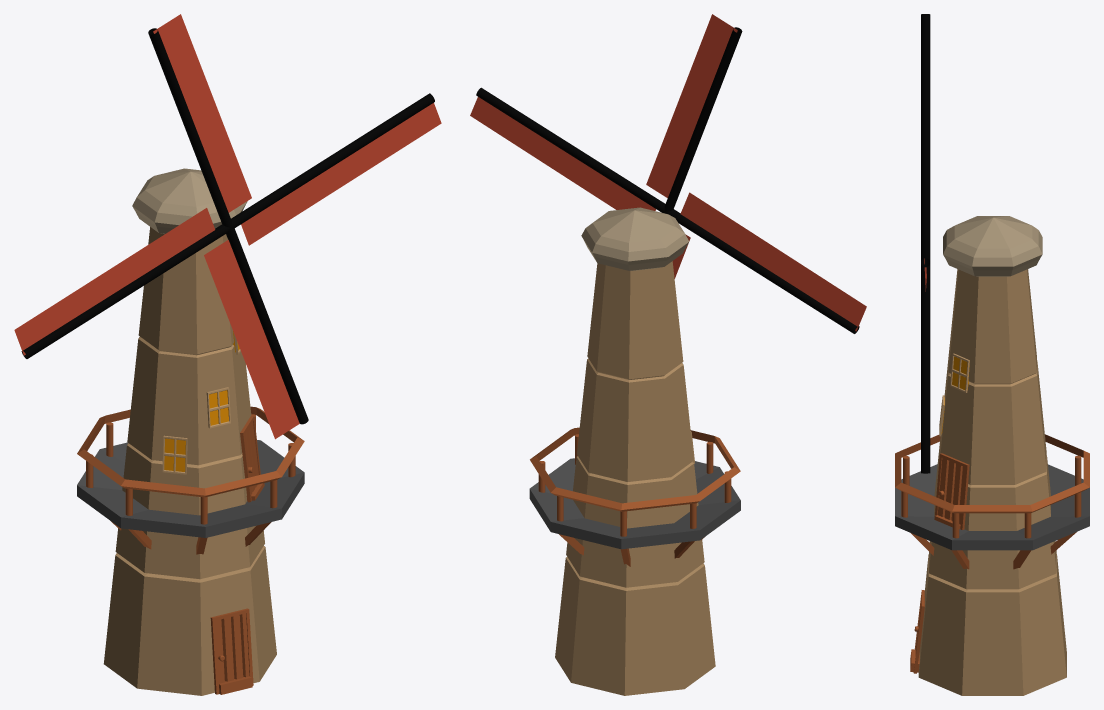
The model's file is huusha2.fbx.
The picture shows the model from 3 angles, left to right: view 1: azimuth 30°, elevation 25°; view 2: azimuth 150°, elevation 25°; view 3: azimuth 270°, elevation 25°; orthographic projection. The views are drawn at different scales.
Parts seen in each view (by area): view 1: 平面, 羽, 羽支柱, 平面.003, 平面.002, 平面.001, ドア.001, 円柱.003, ドア枠.001, 立方体; view 2: 平面, 羽, 平面.003, 羽支柱, 平面.002, 平面.001, 円柱.003; view 3: 平面, 平面.003, 平面.002, 羽支柱, 平面.001, 円柱.003, ドア.003, 立方体, ドア枠.003, ドア枠.001, 窓.004, 窓枠.005.
Part boxes in pixels (x1,y1,x2,y2): 平面: (103, 227, 276, 695); 羽: (14, 14, 441, 439); 羽支柱: (21, 28, 434, 424); 平面.003: (77, 440, 304, 537); 平面.002: (132, 168, 247, 233); 平面.001: (77, 406, 304, 497); ドア.001: (215, 613, 249, 683); 円柱.003: (86, 414, 295, 524); ドア枠.001: (210, 608, 253, 694); 立方体: (111, 521, 271, 554); 平面: (555, 261, 715, 695); 羽: (470, 14, 866, 331); 平面.003: (529, 458, 740, 549); 羽支柱: (476, 27, 859, 333); 平面.002: (581, 207, 689, 270); 平面.001: (530, 427, 740, 511); 円柱.003: (538, 434, 731, 536); 平面: (918, 269, 1066, 695); 平面.003: (895, 464, 1089, 550); 平面.002: (943, 216, 1042, 276); 羽支柱: (921, 14, 930, 473); 平面.001: (895, 434, 1089, 513); 円柱.003: (901, 455, 1081, 538); ドア.003: (937, 458, 964, 524); 立方体: (911, 532, 1076, 569); ドア枠.003: (935, 453, 969, 529); ドア枠.001: (913, 590, 924, 673); 窓.004: (952, 356, 969, 389); 窓枠.005: (950, 353, 969, 392).
Bounding box in the file's own units: 565 × 863 × 243.
